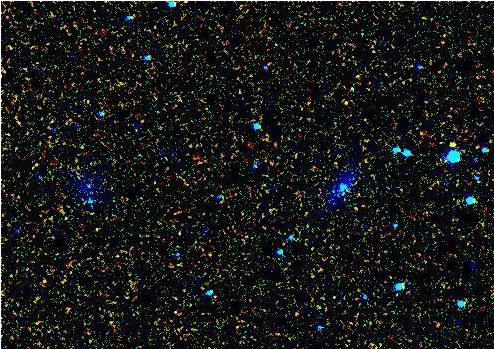star: (437, 130, 467, 160)
